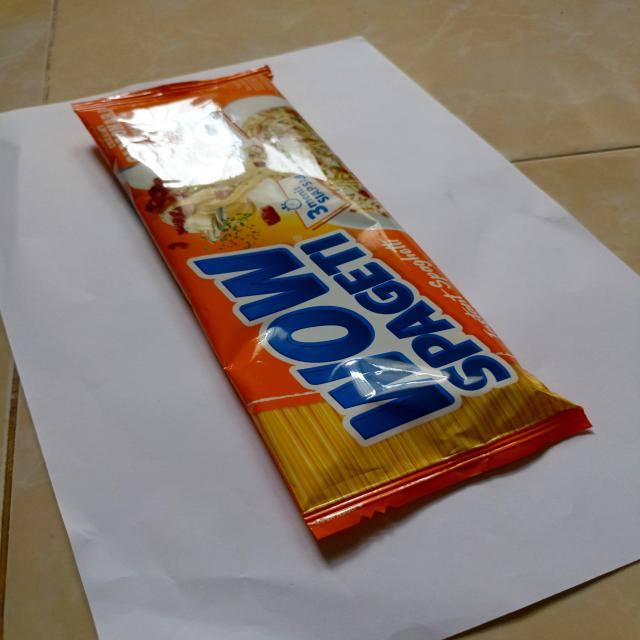indomie-tori-miso: (72, 64, 593, 543)
